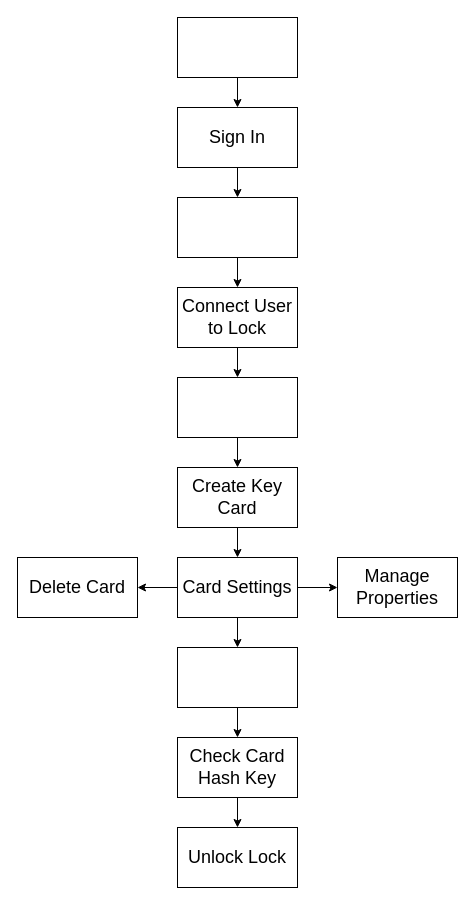
The diagram is 475 pixels wide and 905 high, and some of its shapes have lost their labels. Each missing label, with the centre of its shape:
"Change Lock Password" goes at (x=237, y=407).
"Change Password" goes at (x=237, y=227).
"Register" goes at (x=237, y=47).
"Scan Card on Lock or App" goes at (x=237, y=677).
